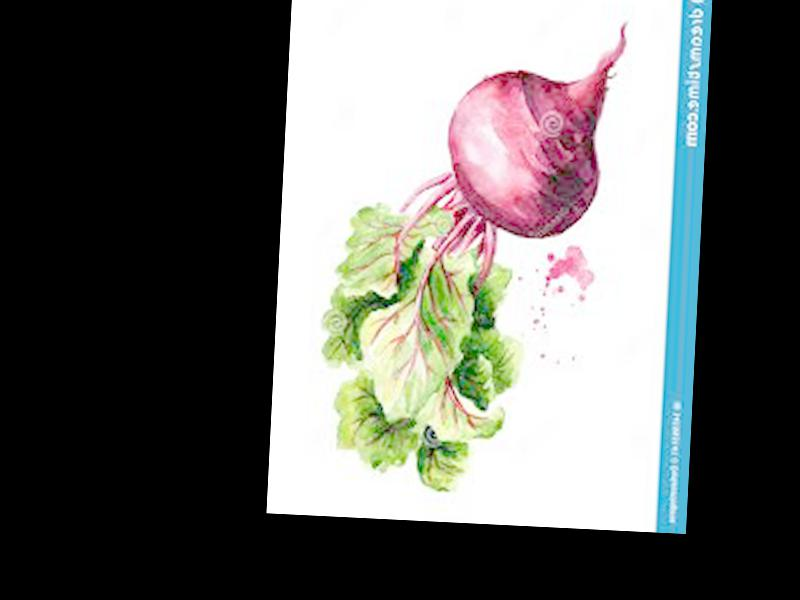Beet: (313, 10, 627, 501)
